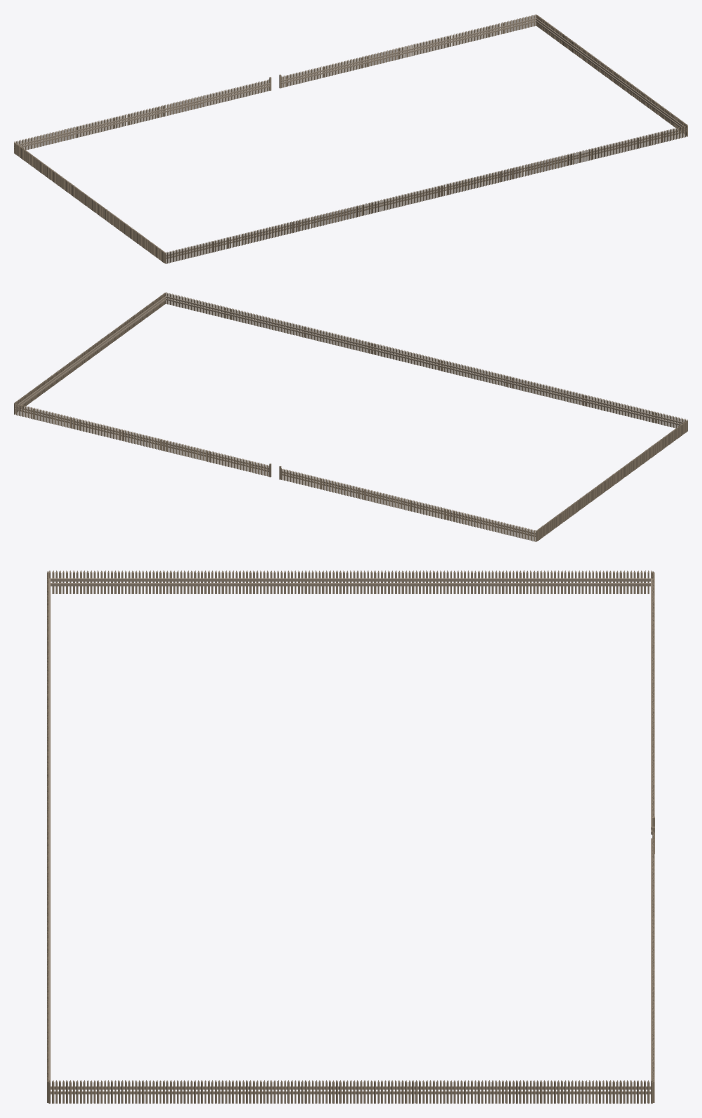
The model's file is first_fort_outer_officers_garden__first_fort_1803.glb.
3 renders of one model, top to bottom at view 1: azimuth 30°, elevation 25°; view 2: azimuth 150°, elevation 25°; view 3: azimuth 270°, elevation 25°, orthographic. The views are drawn at different scales.
Parts seen in each view (by area): view 1: first_fort_outer_officers_garden__first_fort_1803; view 2: first_fort_outer_officers_garden__first_fort_1803; view 3: first_fort_outer_officers_garden__first_fort_1803.
Boxes of the visible parts, x1,y1,x2,y2 form: first_fort_outer_officers_garden__first_fort_1803: (14, 14, 687, 263); first_fort_outer_officers_garden__first_fort_1803: (14, 292, 687, 541); first_fort_outer_officers_garden__first_fort_1803: (47, 570, 654, 1103).
Bounding box in the file's own units: 69.92 × 1.68 × 35.19.
